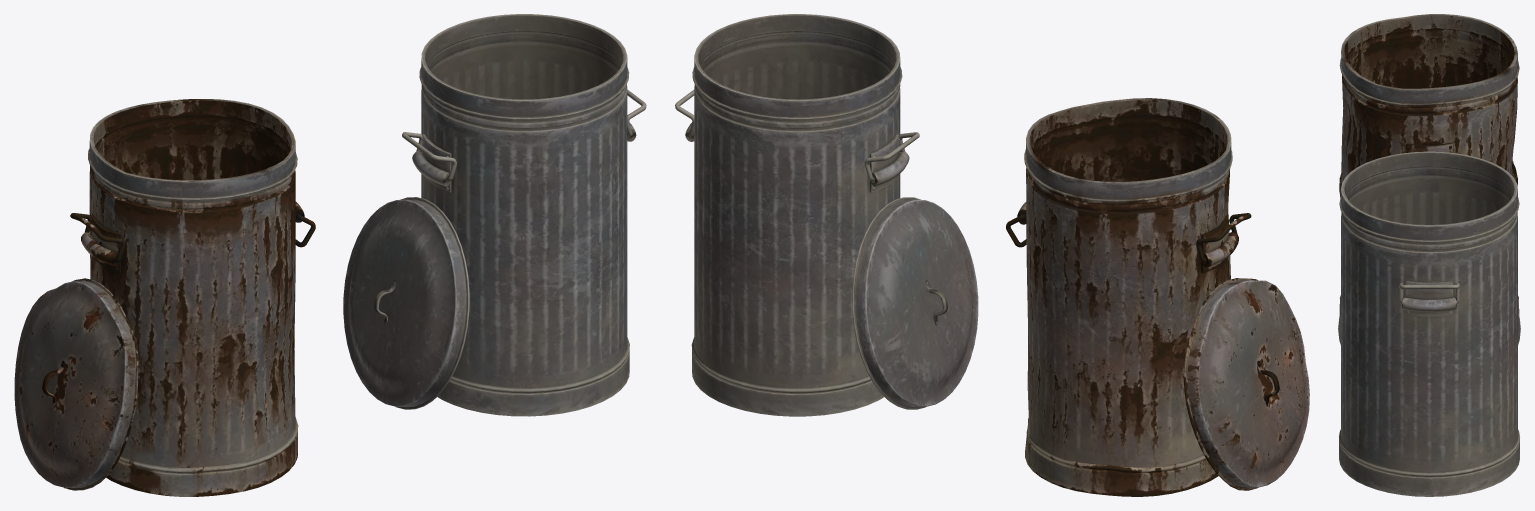
The model's file is metal_trash_can.glb.
The picture shows the model from 3 angles, left to right: view 1: azimuth 30°, elevation 25°; view 2: azimuth 150°, elevation 25°; view 3: azimuth 270°, elevation 25°; orthographic projection. The views are drawn at different scales.
Visible parts, largest first — view 1: metal_trash_can_handle_left, metal_trash_can_rust; view 2: metal_trash_can_handle_left, metal_trash_can_rust; view 3: metal_trash_can_handle_left, metal_trash_can_rust.
Boxes of the visible parts, <box> form: metal_trash_can_handle_left: <box>343,14,646,416</box>; metal_trash_can_rust: <box>14,99,315,496</box>; metal_trash_can_handle_left: <box>675,14,978,416</box>; metal_trash_can_rust: <box>1006,98,1309,496</box>; metal_trash_can_handle_left: <box>1338,151,1520,496</box>; metal_trash_can_rust: <box>1339,14,1519,315</box>.
Bounding box in the file's own units: 1.78 × 0.9062 × 0.5563.
2 materials, 2 textured.
